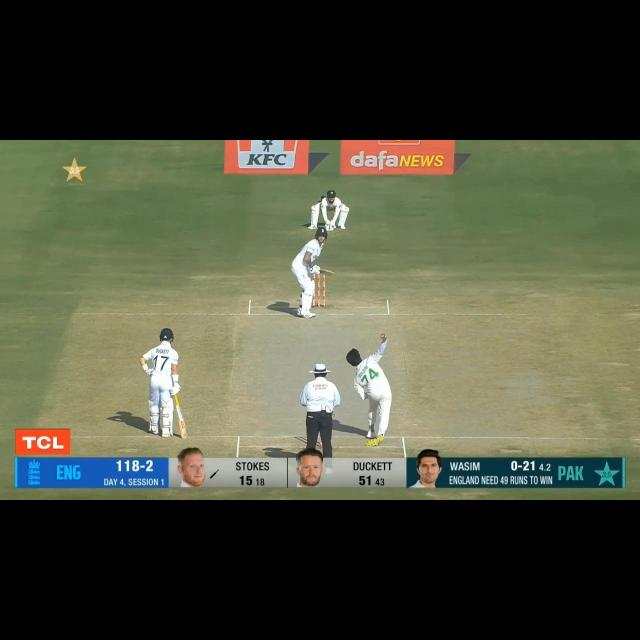bat: (175, 407, 189, 439), (319, 267, 335, 277)
toe: (178, 427, 189, 439), (330, 272, 336, 277)
